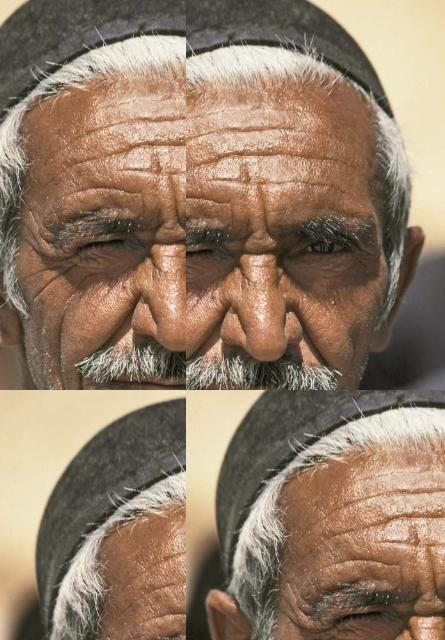crows_feet: (81, 82, 111, 126), (286, 611, 326, 640), (117, 617, 155, 640), (248, 35, 268, 57)
forehead: (122, 26, 176, 66), (392, 504, 445, 534), (376, 478, 445, 501), (340, 547, 393, 575), (326, 518, 374, 542), (217, 0, 242, 6), (186, 0, 212, 3)
frown_line: (412, 584, 445, 626), (186, 2, 193, 19)
gummy_smile: (216, 65, 239, 95)
masseter: (69, 134, 97, 182)
